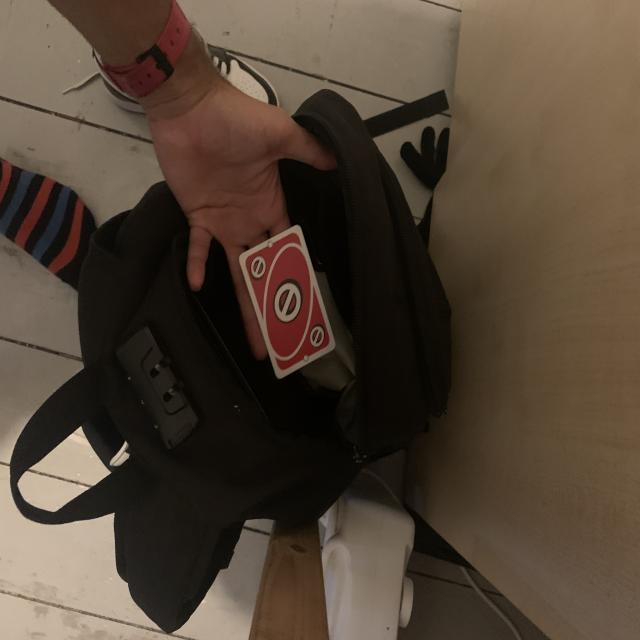lredskip-20: (248, 255, 268, 280)
